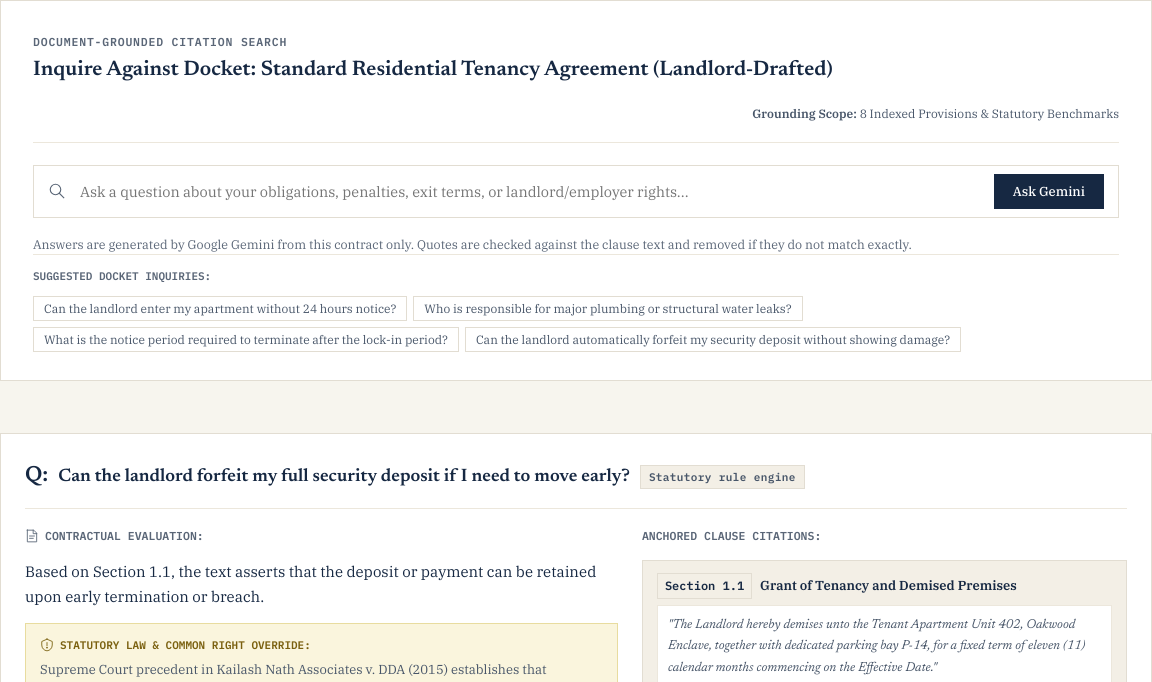
Test: GroundedQA with Gemini › shows a Gemini answer with verified citations and a provenance badge
Replace the text in the field named "Ask a question about this contract" with "Can they keep my deposit?" at (530,191), box x1=80 y1=176 x2=980 y2=207
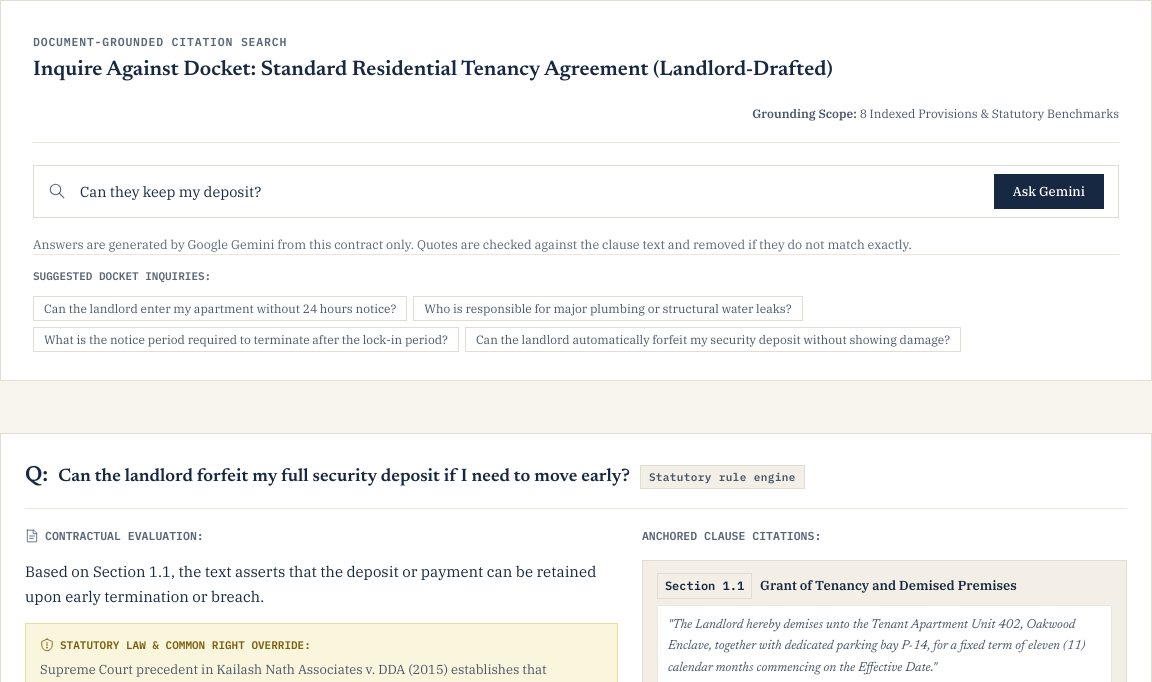
Click the button "Ask Gemini".
click(1049, 191)  # box x1=994 y1=174 x2=1104 y2=209
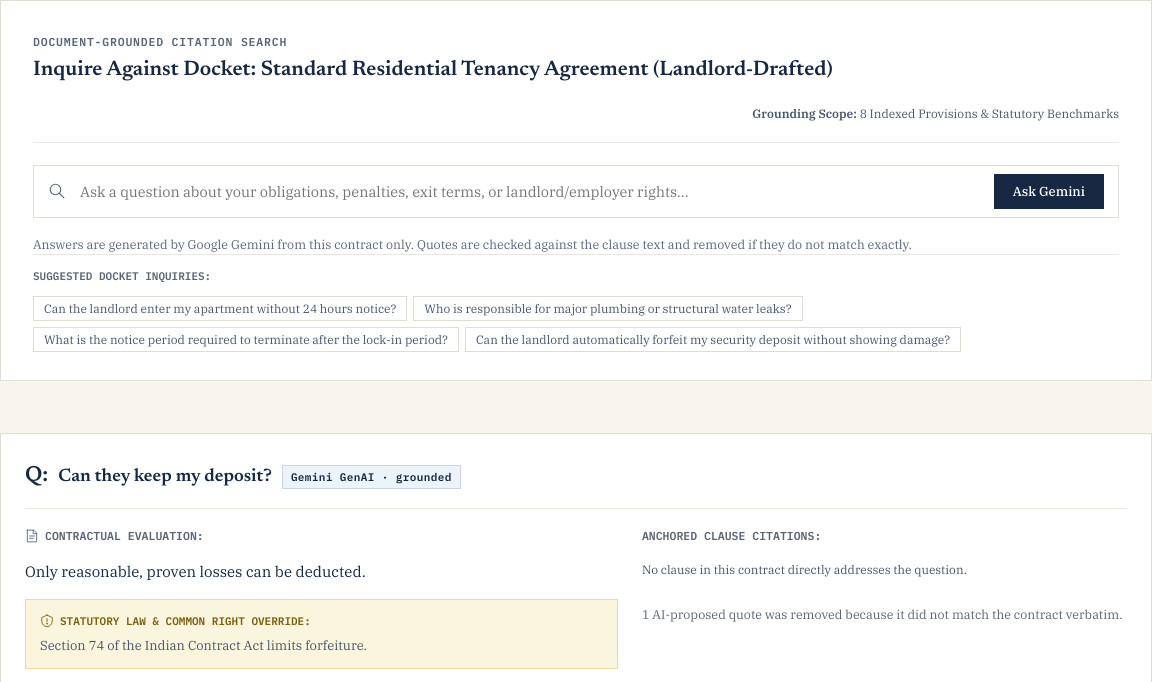
Expected: the text "Only reasonable, proven losses can be deducted." is shown, x1=25 y1=562 x2=366 y2=581
Expected: the text "Gemini GenAI · grounded" is shown, x1=282 y1=465 x2=461 y2=489
Expected: the text "1 AI-proposed quote was removed" is shown, x1=642 y1=604 x2=1127 y2=624
